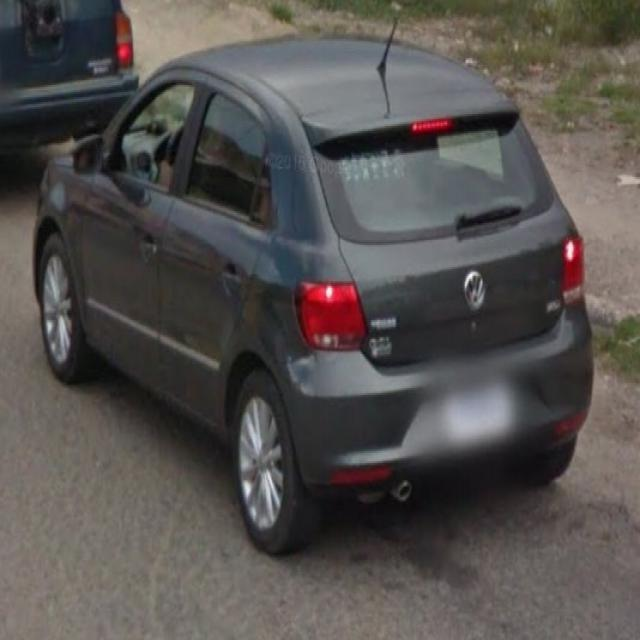cars: (36, 24, 596, 531)
